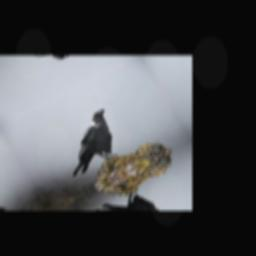Crow: (45, 105, 131, 180)
